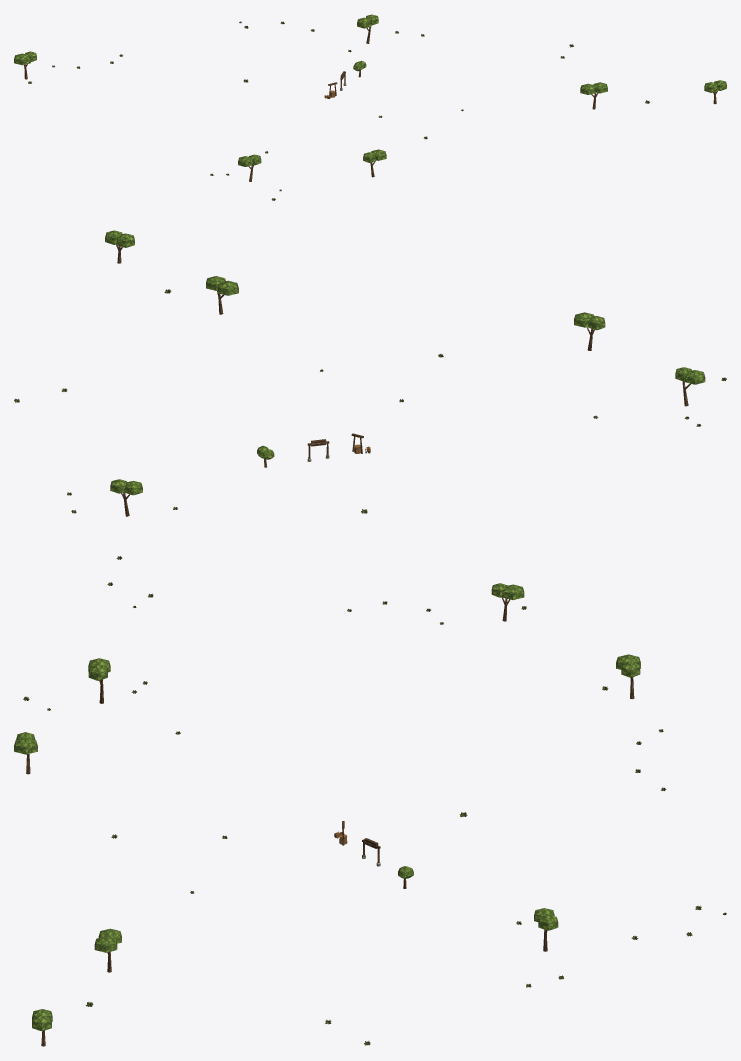
Rendered from FieldCell_1_6.fbx.
3 views of the same model, one above another, from view 1: azimuth 30°, elevation 25°; view 2: azimuth 150°, elevation 25°; view 3: azimuth 270°, elevation 25° (orthographic). The views are drawn at different scales.
Visible parts, largest first — view 1: FieldCell_1_6; view 2: FieldCell_1_6; view 3: FieldCell_1_6.
Part boxes in pixels (left/top/right/bottom): FieldCell_1_6: left=14, top=14, right=726, bottom=181; FieldCell_1_6: left=105, top=230, right=705, bottom=621; FieldCell_1_6: left=14, top=654, right=640, bottom=1046.
Bounding box in the file's own units: 15548 × 2101 × 12709.
